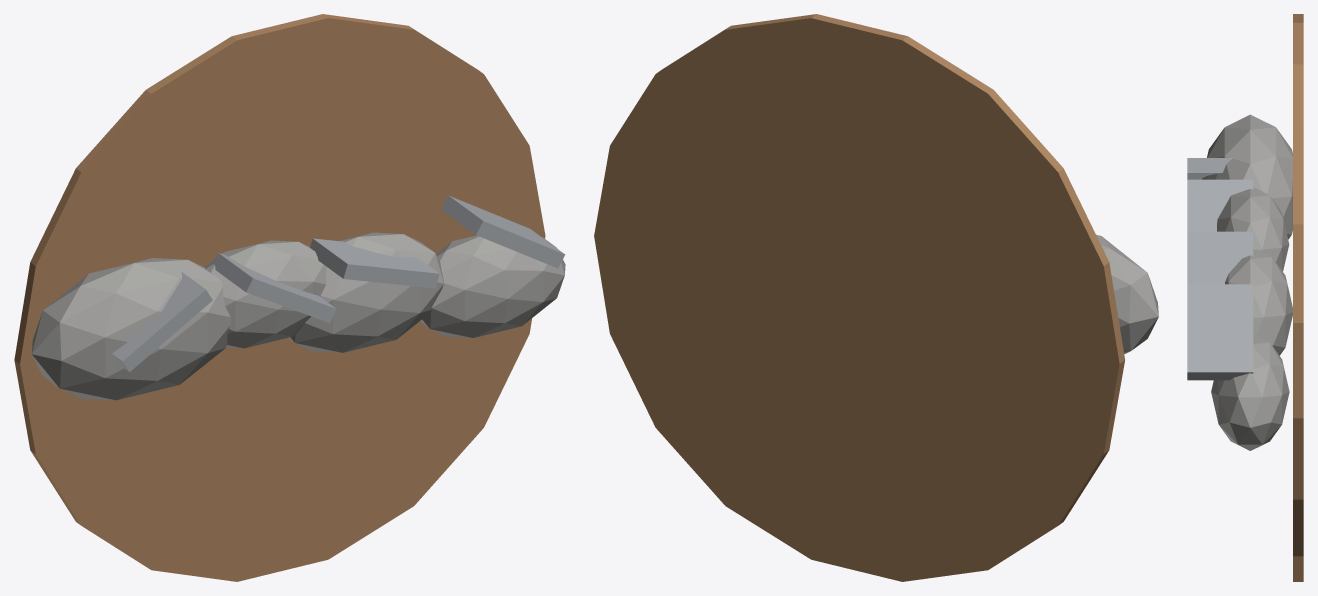
The model's file is 02_local_prop_cluster.glb.
The picture shows the model from 3 angles, left to right: view 1: azimuth 30°, elevation 25°; view 2: azimuth 150°, elevation 25°; view 3: azimuth 270°, elevation 25°; orthographic projection. The views are drawn at different scales.
Parts seen in each view (by area): view 1: scatter_base, scrap_rock_0, scrap_rock_3, scrap_rock_2, scrap_rock_1, scrap_plate_2, scrap_plate_0, scrap_plate_3, scrap_plate_1; view 2: scatter_base, scrap_rock_0; view 3: scrap_plate_3, scatter_base, scrap_rock_3, scrap_rock_0, scrap_rock_2, scrap_rock_1, scrap_plate_2, scrap_plate_1, scrap_plate_0.
Boxes of the visible parts, left/top/right/bottom form: scatter_base: left=14, top=14, right=545, bottom=581; scrap_rock_0: left=31, top=258, right=230, bottom=400; scrap_rock_3: left=420, top=235, right=565, bottom=337; scrap_rock_2: left=288, top=232, right=443, bottom=352; scrap_rock_1: left=204, top=240, right=326, bottom=348; scrap_plate_2: left=310, top=238, right=439, bottom=288; scrap_plate_0: left=112, top=271, right=212, bottom=371; scrap_plate_3: left=441, top=195, right=565, bottom=268; scrap_plate_1: left=212, top=252, right=336, bottom=322; scatter_base: left=594, top=14, right=1124, bottom=581; scrap_rock_0: left=1096, top=234, right=1158, bottom=353; scrap_plate_3: left=1187, top=284, right=1253, bottom=380; scatter_base: left=1293, top=14, right=1303, bottom=581; scrap_rock_3: left=1211, top=334, right=1289, bottom=450; scrap_rock_0: left=1202, top=114, right=1292, bottom=239; scrap_rock_2: left=1225, top=249, right=1292, bottom=355; scrap_rock_1: left=1217, top=187, right=1289, bottom=271; scrap_plate_2: left=1187, top=231, right=1253, bottom=284; scrap_plate_1: left=1187, top=179, right=1253, bottom=231; scrap_plate_0: left=1187, top=158, right=1233, bottom=179.
Size of the model in its own units: 1.94 by 1.87 by 0.3875.
